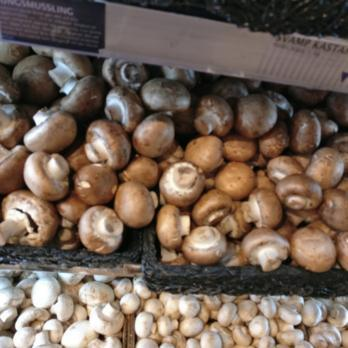Mushroom: (122, 65, 244, 273), (0, 56, 121, 254), (232, 88, 348, 266)
